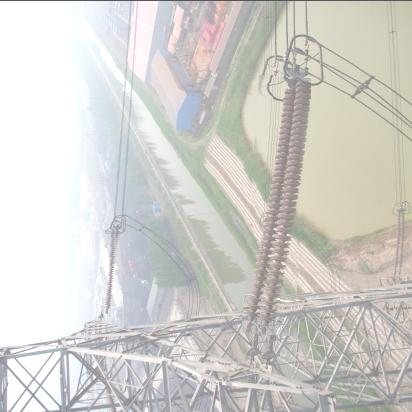insulator: (247, 75, 309, 336), (97, 229, 123, 313)
